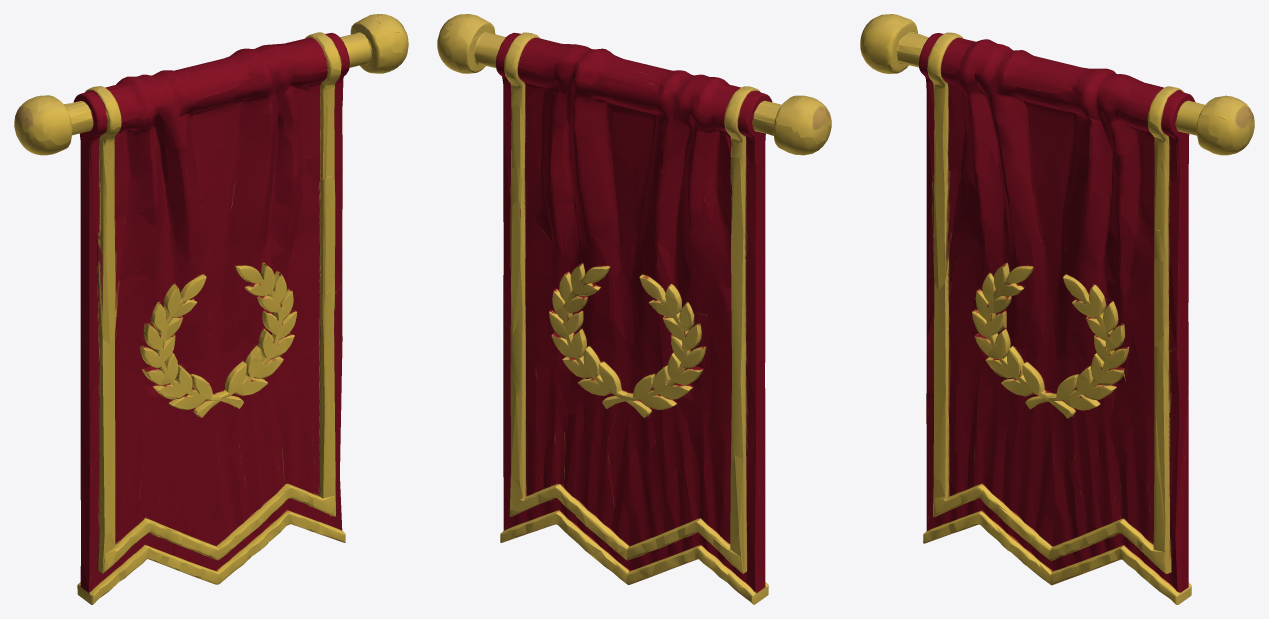
The model's file is banner_red.glb.
The picture shows the model from 3 angles, left to right: view 1: azimuth 30°, elevation 25°; view 2: azimuth 150°, elevation 25°; view 3: azimuth 330°, elevation 25°; orthographic projection.
Size of the model in its own units: 1.46 by 1.9 by 0.2121.
1 material, 1 textured.
